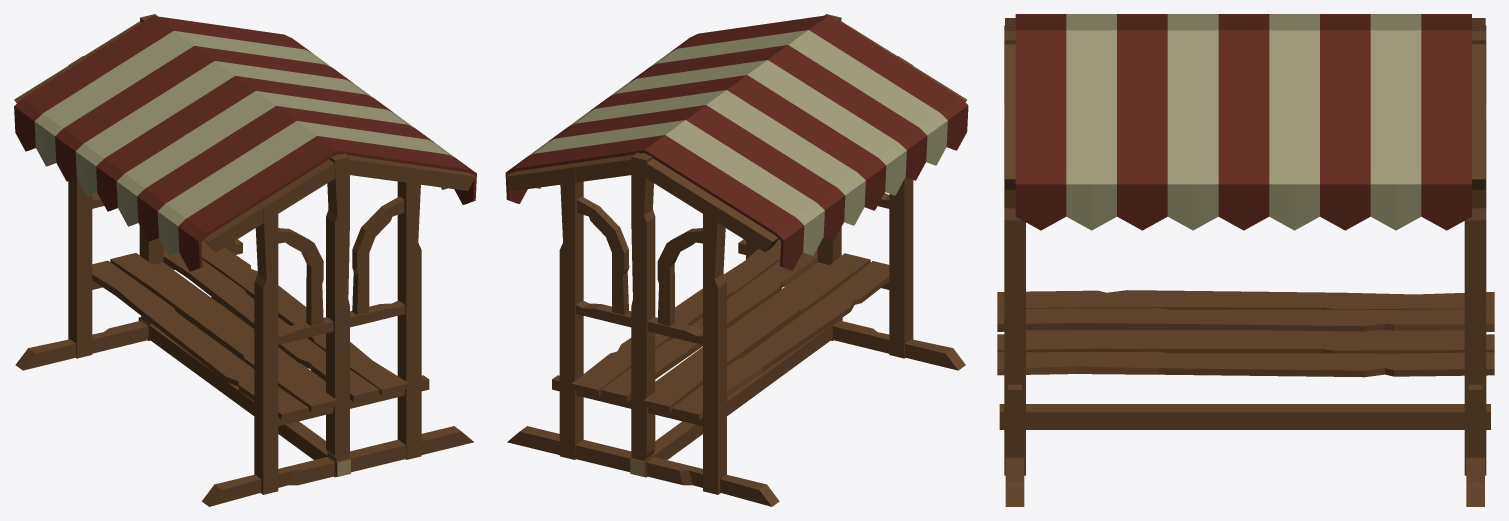
Rendered from market_stall.glb.
3 renders of one model, left to right at view 1: azimuth 30°, elevation 25°; view 2: azimuth 150°, elevation 25°; view 3: azimuth 270°, elevation 25°, orthographic. The views are drawn at different scales.
Visible parts, largest first — view 1: MarketStand_1; view 2: MarketStand_1; view 3: MarketStand_1.
Boxes of the visible parts, <box> form: MarketStand_1: <box>14,14,476,506</box>; MarketStand_1: <box>505,14,968,506</box>; MarketStand_1: <box>997,14,1494,506</box>.
Size of the model in its own units: 0.9509 by 1.05 by 1.19.
